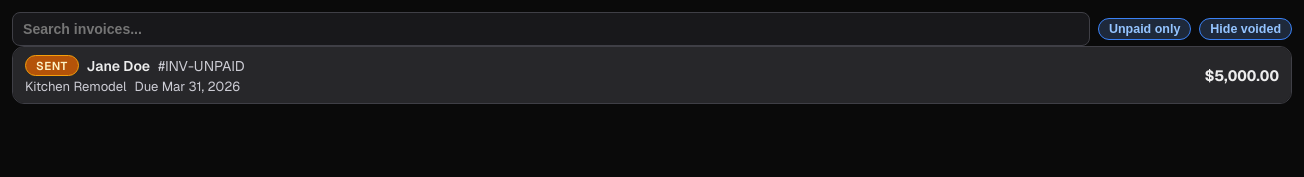
it: InvoicesTab › filters to unpaid only by default, shows closed when toggled
Expected: the text "#INV-UNPAID" is shown, [158,56,244,74]
Expected: the text "#INV-CLOSED" is not shown
# Toggle "Unpaid only" off
Click the button "Unpaid only": (1145, 29) [1098,18,1191,40]
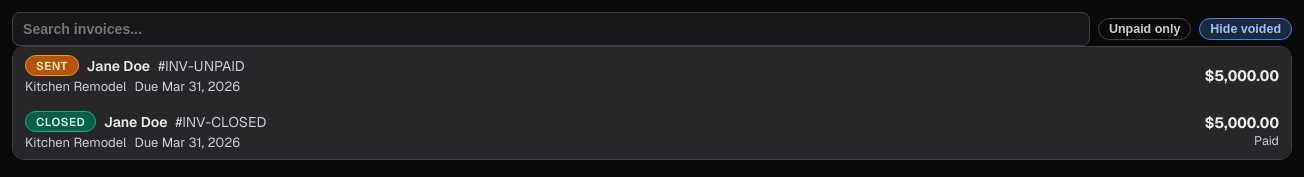
Expected: the text "#INV-CLOSED" is shown, [176,112,266,130]
